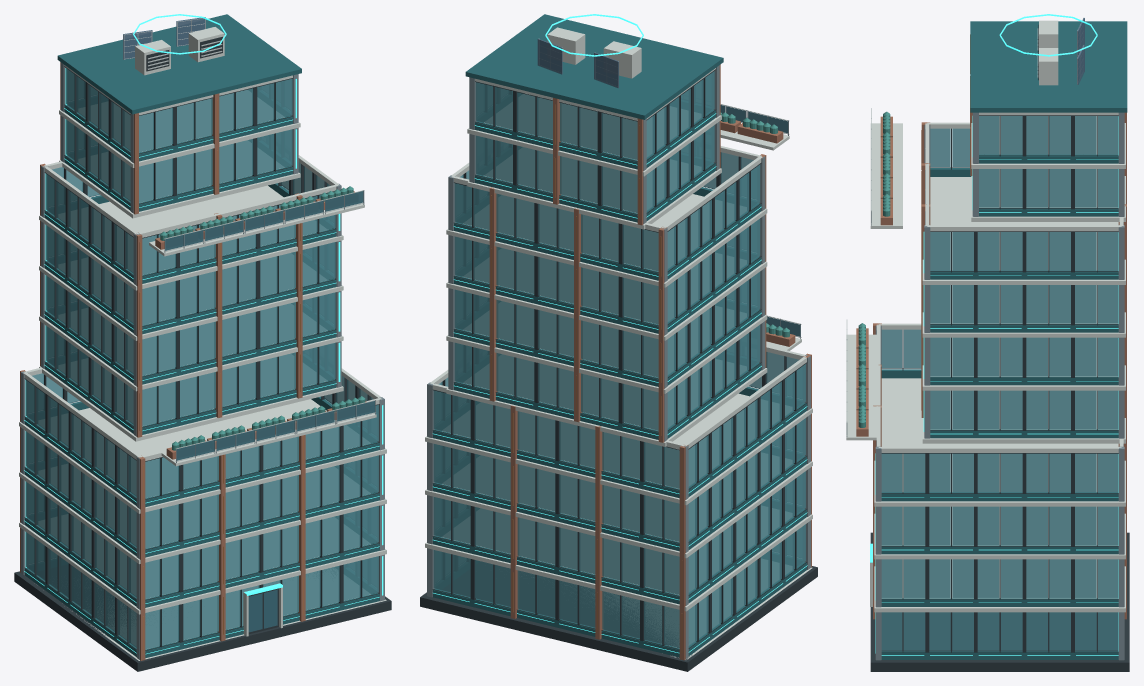
File: Arcology_Terrace_10F.glb
The picture shows the model from 3 angles, left to right: view 1: azimuth 30°, elevation 25°; view 2: azimuth 150°, elevation 25°; view 3: azimuth 270°, elevation 25°; orthographic projection. The views are drawn at different scales.
Visible parts, largest first — view 1: Arcology_Terrace_10F__Roof_Coping_Unit, Arcology_Terrace_10F__Floor_Slab_Unit.003, Arcology_Terrace_10F__Plinth_Unit, Arcology_Terrace_10F__Floor_Slab_Unit.007, Arcology_Terrace_10F__Floor_Slab_Unit.001, Arcology_Terrace_10F__Floor_Slab_Unit.002, Arcology_Terrace_10F__Floor_Slab_Unit.004, Arcology_Terrace_10F__Floor_Slab_Unit.005, Arcology_Terrace_10F__Floor_Slab_Unit.006, Arcology_Terrace_10F__Entry_Airlock, Arcology_Terrace_10F__Floor_Slab_Unit.008, Arcology_Terrace_10F__Floor_Slab_Unit.009 (+127 smaller); view 2: Arcology_Terrace_10F__Roof_Coping_Unit, Arcology_Terrace_10F__Plinth_Unit, Arcology_Terrace_10F__Floor_Slab_Unit.003, Arcology_Terrace_10F__Floor_Slab_Unit.007, Arcology_Terrace_10F__Floor_Slab_Unit.002, Arcology_Terrace_10F__Floor_Slab_Unit.001, Arcology_Terrace_10F__Floor_Slab_Unit.006, Arcology_Terrace_10F__Floor_Slab_Unit.004, Arcology_Terrace_10F__Floor_Slab_Unit.005, Arcology_Terrace_10F__Floor_Slab_Unit.009, Arcology_Terrace_10F__Floor_Slab_Unit.008, Arcology_Terrace_10F__Facade_Glazing_3m.058 (+132 smaller); view 3: Arcology_Terrace_10F__Roof_Coping_Unit, Arcology_Terrace_10F__Floor_Slab_Unit.003, Arcology_Terrace_10F__Plinth_Unit, Arcology_Terrace_10F__Floor_Slab_Unit.007, Arcology_Terrace_10F__Floor_Slab_Unit.001, Arcology_Terrace_10F__Floor_Slab_Unit.002, Arcology_Terrace_10F__Facade_Glazing_3m.085, Arcology_Terrace_10F__Facade_Glazing_3m.121, Arcology_Terrace_10F__Facade_Glazing_3m.083, Arcology_Terrace_10F__Facade_Glazing_3m.084, Arcology_Terrace_10F__Facade_Glazing_3m.086, Arcology_Terrace_10F__Facade_Glazing_3m.122 (+100 smaller).
Boxes of the visible parts, x1,y1,x2,y2 form: Arcology_Terrace_10F__Roof_Coping_Unit: (57, 14, 301, 114); Arcology_Terrace_10F__Floor_Slab_Unit.003: (19, 399, 386, 513); Arcology_Terrace_10F__Plinth_Unit: (14, 571, 391, 671); Arcology_Terrace_10F__Floor_Slab_Unit.007: (39, 185, 343, 290); Arcology_Terrace_10F__Floor_Slab_Unit.001: (19, 522, 386, 614); Arcology_Terrace_10F__Floor_Slab_Unit.002: (19, 472, 386, 563); Arcology_Terrace_10F__Floor_Slab_Unit.004: (39, 366, 343, 441); Arcology_Terrace_10F__Floor_Slab_Unit.005: (39, 316, 343, 391); Arcology_Terrace_10F__Floor_Slab_Unit.006: (39, 266, 343, 340); Arcology_Terrace_10F__Entry_Airlock: (243, 583, 282, 636); Arcology_Terrace_10F__Floor_Slab_Unit.008: (59, 160, 300, 218); Arcology_Terrace_10F__Floor_Slab_Unit.009: (59, 94, 300, 167); Arcology_Terrace_10F__Roof_Coping_Unit: (465, 14, 723, 119); Arcology_Terrace_10F__Plinth_Unit: (420, 566, 817, 671); Arcology_Terrace_10F__Floor_Slab_Unit.003: (425, 393, 812, 505); Arcology_Terrace_10F__Floor_Slab_Unit.007: (446, 194, 767, 287); Arcology_Terrace_10F__Floor_Slab_Unit.002: (425, 461, 812, 558); Arcology_Terrace_10F__Floor_Slab_Unit.001: (425, 514, 812, 611); Arcology_Terrace_10F__Floor_Slab_Unit.006: (446, 262, 767, 340); Arcology_Terrace_10F__Floor_Slab_Unit.004: (446, 368, 767, 446); Arcology_Terrace_10F__Floor_Slab_Unit.005: (446, 315, 767, 393); Arcology_Terrace_10F__Floor_Slab_Unit.009: (467, 94, 721, 176); Arcology_Terrace_10F__Floor_Slab_Unit.008: (467, 168, 721, 229); Arcology_Terrace_10F__Facade_Glazing_3m.058: (517, 464, 555, 511); Arcology_Terrace_10F__Roof_Coping_Unit: (970, 21, 1127, 112); Arcology_Terrace_10F__Floor_Slab_Unit.003: (874, 378, 1125, 506); Arcology_Terrace_10F__Plinth_Unit: (870, 532, 1129, 671); Arcology_Terrace_10F__Floor_Slab_Unit.007: (922, 177, 1125, 284); Arcology_Terrace_10F__Floor_Slab_Unit.001: (874, 559, 1125, 612); Arcology_Terrace_10F__Floor_Slab_Unit.002: (874, 507, 1125, 559); Arcology_Terrace_10F__Facade_Glazing_3m.085: (977, 453, 1022, 492); Arcology_Terrace_10F__Facade_Glazing_3m.121: (977, 337, 1022, 376); Arcology_Terrace_10F__Facade_Glazing_3m.083: (881, 453, 925, 492); Arcology_Terrace_10F__Facade_Glazing_3m.084: (929, 453, 973, 492); Arcology_Terrace_10F__Facade_Glazing_3m.086: (1026, 453, 1070, 492); Arcology_Terrace_10F__Facade_Glazing_3m.122: (1026, 337, 1070, 376).
Size of the model in its own units: 19 by 38.98 by 17.5.
